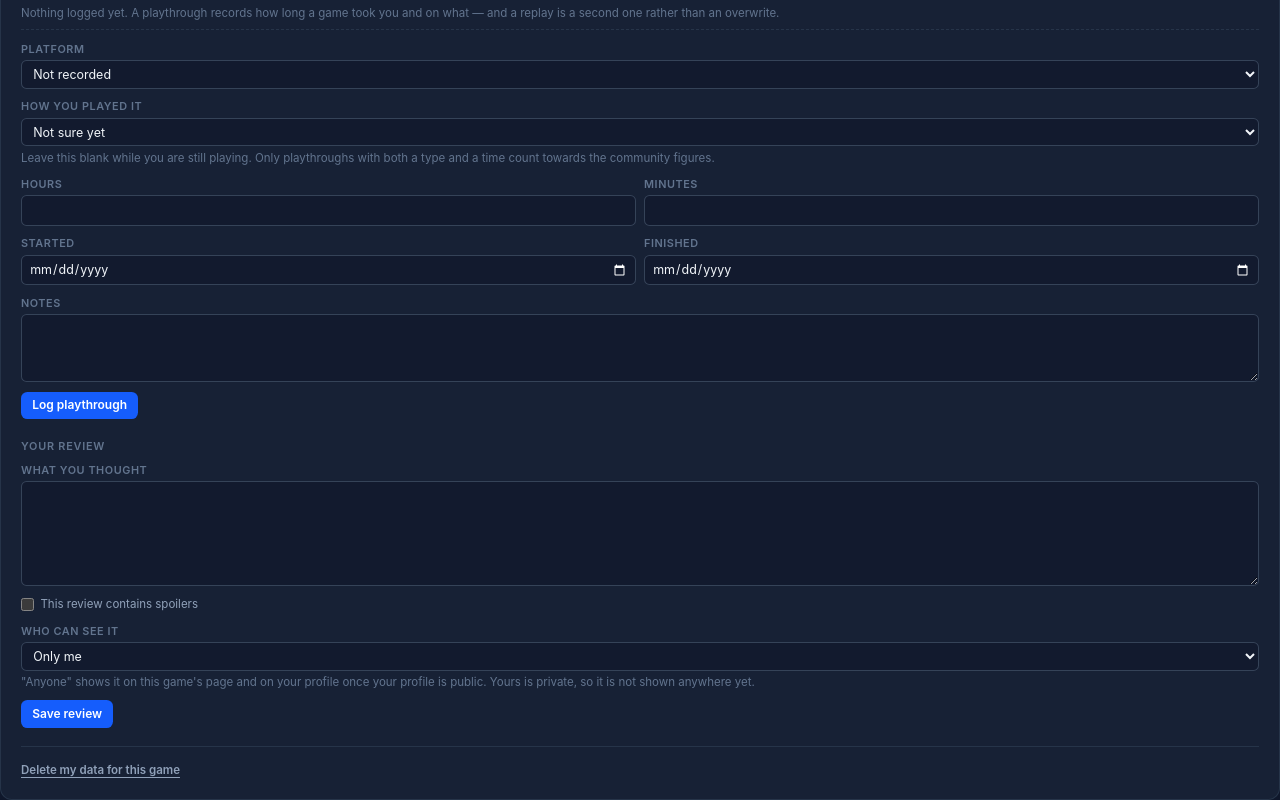
it: GameUserPanel deleting everything › asks before deleting
(page scrolled)
Step 1. Click the button "Delete my data for this game" → (100, 770), box [21,762,180,779]
(page scrolled)
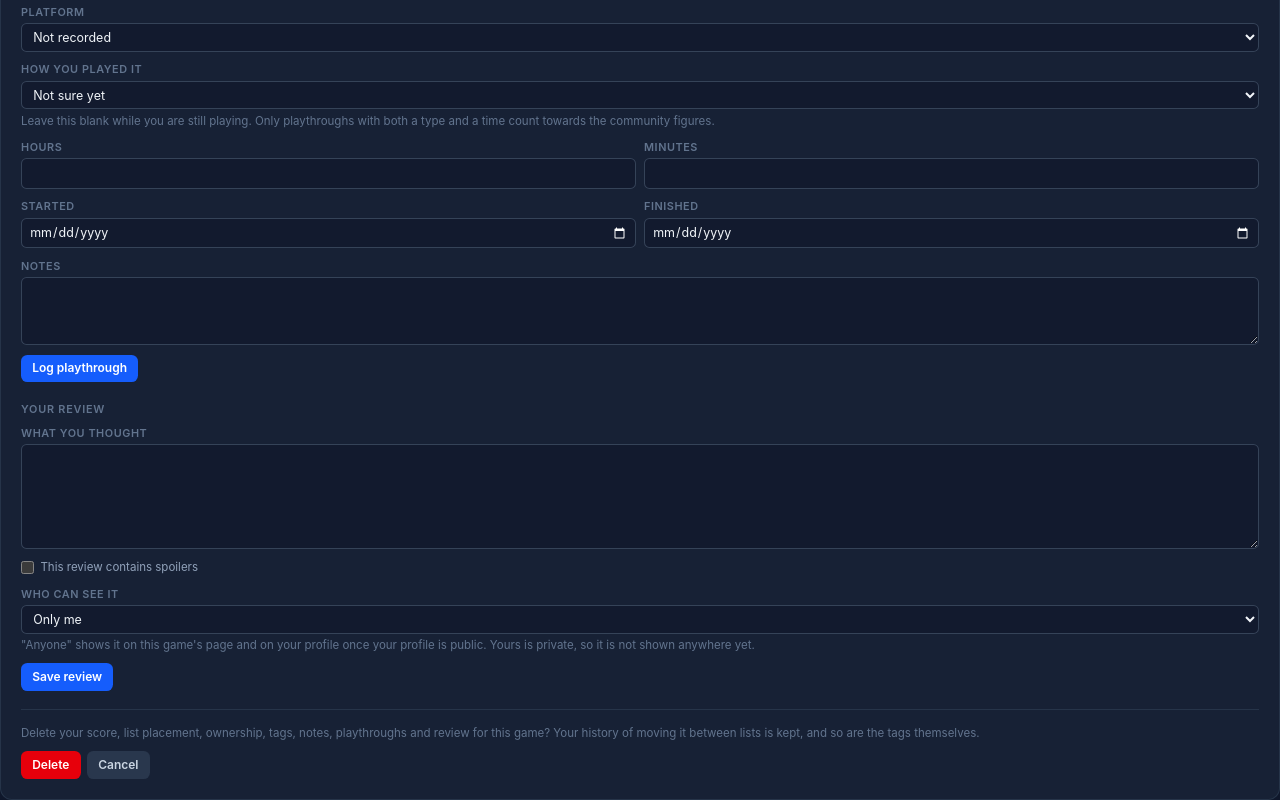
Result: the button "Delete" is shown at [21,751,81,779]
